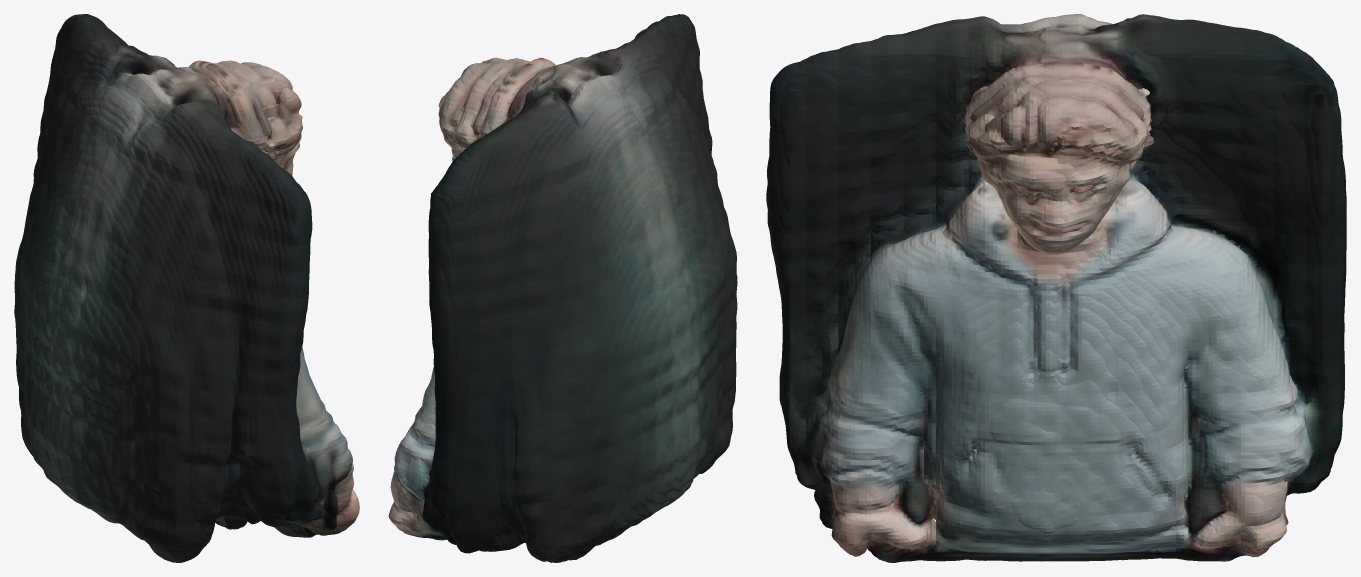
Rendered from maxime_3d.glb.
3 renders of one model, left to right at view 1: azimuth 30°, elevation 25°; view 2: azimuth 150°, elevation 25°; view 3: azimuth 270°, elevation 25°, orthographic. The views are drawn at different scales.
Parts seen in each view (by area): view 1: geometry_0; view 2: geometry_0; view 3: geometry_0.
Boxes of the visible parts, x1,y1,x2,y2 form: geometry_0: [14, 14, 359, 562]; geometry_0: [388, 14, 737, 562]; geometry_0: [766, 14, 1346, 562].
Bounding box in the file's own units: 0.5283 × 0.9273 × 0.9741.
